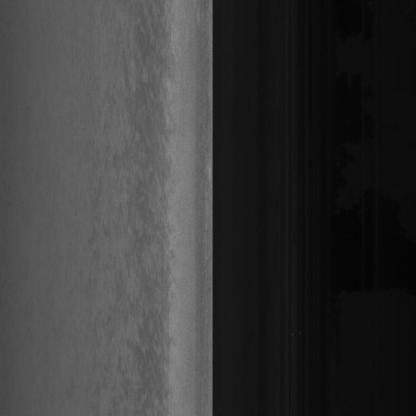silk_spot: (127, 40, 182, 306)
